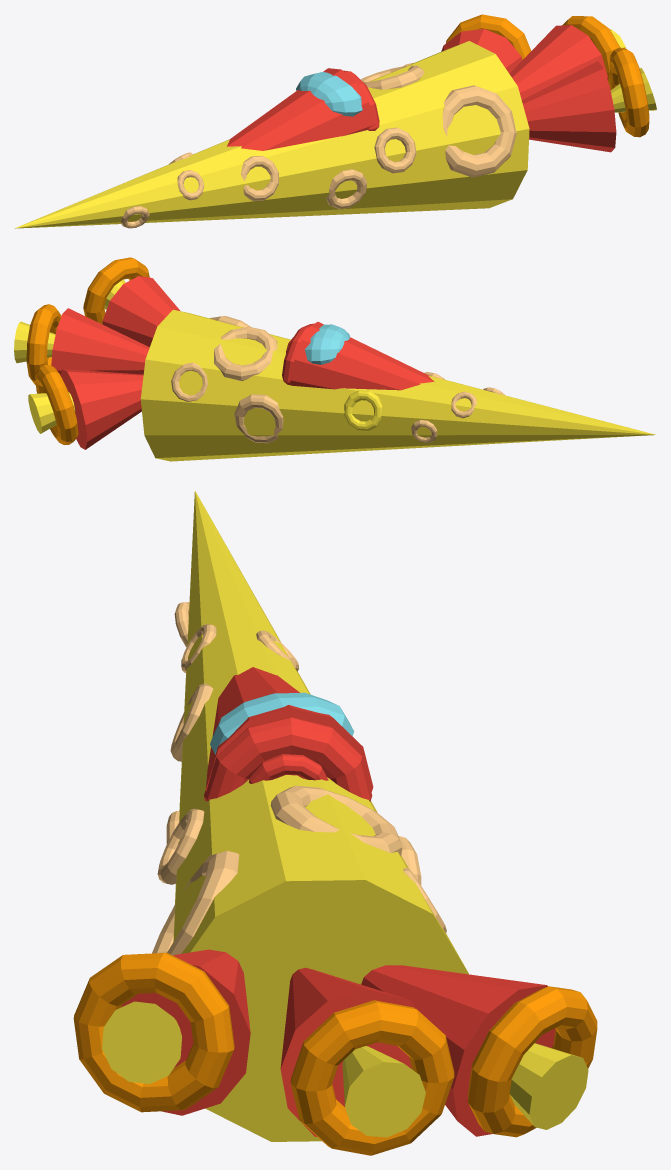
Rendered from cheese-spaceship.obj.
3 renders of one model, top to bottom at view 1: azimuth 30°, elevation 25°; view 2: azimuth 150°, elevation 25°; view 3: azimuth 270°, elevation 25°, orthographic. The views are drawn at different scales.
Parts seen in each view (by area): view 1: group453485338, group727093116, group386105114, group1171108305, group1511874814, group1880272154, group1895887574, group2084673097, group2095557448, group422993573, group727837801, group2045598919 (+6 smaller); view 2: group453485338, group386105114, group2084673097, group1171108305, group727093116, group2095557448, group1880272154, group1596083177, group422993573, group1895887574, group52371171, group403619672 (+6 smaller); view 3: group453485338, group1880272154, group422993573, group2084673097, group2095557448, group361006194, group1171108305, group1118915215, group727093116, group937505584, group834273380, group386105114 (+6 smaller).
Part boxes in pixels (box(x1,y1,x2,y2)): group453485338: box(14, 41, 529, 228); group727093116: box(522, 61, 616, 152); group386105114: box(227, 68, 375, 150); group1171108305: box(509, 25, 608, 99); group1511874814: box(442, 85, 516, 177); group1880272154: box(609, 47, 649, 137); group1895887574: box(296, 72, 362, 116); group2084673097: box(441, 29, 522, 73); group2095557448: box(446, 14, 531, 59); group422993573: box(562, 16, 620, 89); group727837801: box(374, 127, 416, 173); group2045598919: box(241, 156, 278, 200); group453485338: box(140, 309, 655, 461); group386105114: box(290, 321, 434, 390); group2084673097: box(60, 369, 143, 449); group1171108305: box(51, 308, 149, 375); group727093116: box(102, 276, 180, 347); group2095557448: box(35, 365, 78, 444); group1880272154: box(83, 257, 149, 324); group1596083177: box(214, 326, 277, 380); group422993573: box(26, 304, 61, 385); group1895887574: box(305, 324, 349, 364); group52371171: box(234, 394, 283, 443); group403619672: box(344, 390, 382, 431); group453485338: box(173, 491, 468, 1141); group1880272154: box(73, 952, 234, 1112); group422993573: box(290, 1000, 454, 1155); group2084673097: box(361, 965, 555, 1136); group2095557448: box(468, 986, 597, 1137); group361006194: box(204, 716, 372, 801); group1171108305: box(280, 967, 428, 1136); group1118915215: box(342, 1046, 425, 1137); group727093116: box(121, 949, 250, 1115); group937505584: box(102, 1001, 181, 1084); group834273380: box(509, 1043, 588, 1129); group386105114: box(206, 667, 373, 791).
Bounding box in the file's own units: 0.4878 × 0.1217 × 0.1857.
